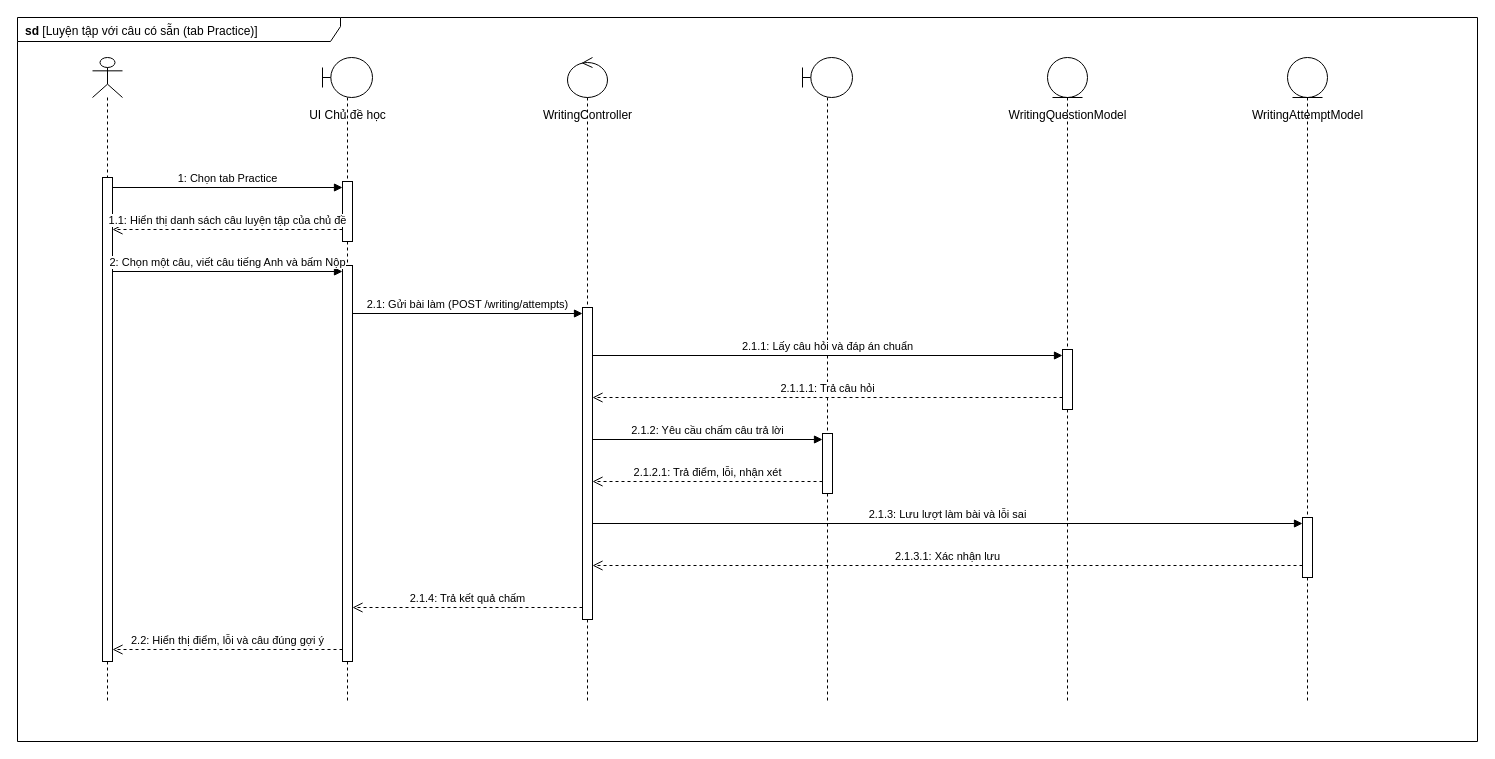
The diagram is 1495 pixels wide and 759 high, and some of its shapes have lost their labels. Here are the shapes that lost their labels. From the top down, the box of each, then its label:
(92, 56, 122, 702): Member
(802, 56, 852, 702): AI Service
